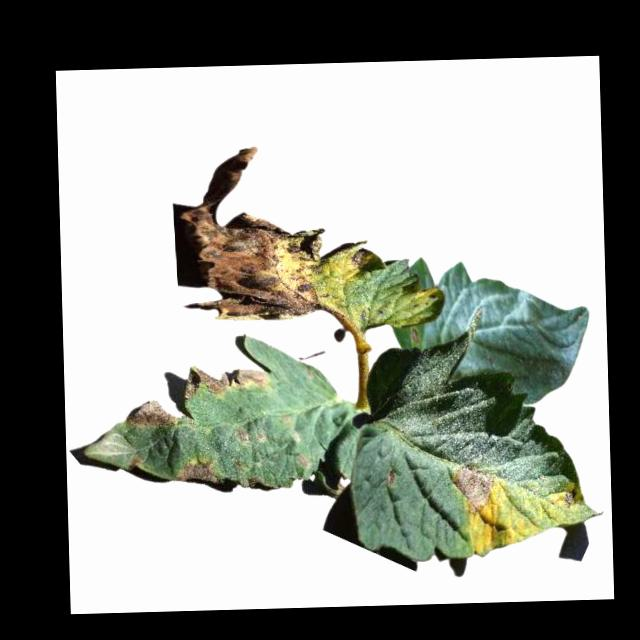Early_blight: (178, 143, 321, 323), (182, 362, 280, 400), (451, 464, 493, 521), (126, 397, 178, 430), (176, 457, 220, 483), (351, 247, 377, 274), (561, 488, 580, 511), (125, 452, 144, 468), (232, 428, 249, 444), (411, 330, 421, 345)
